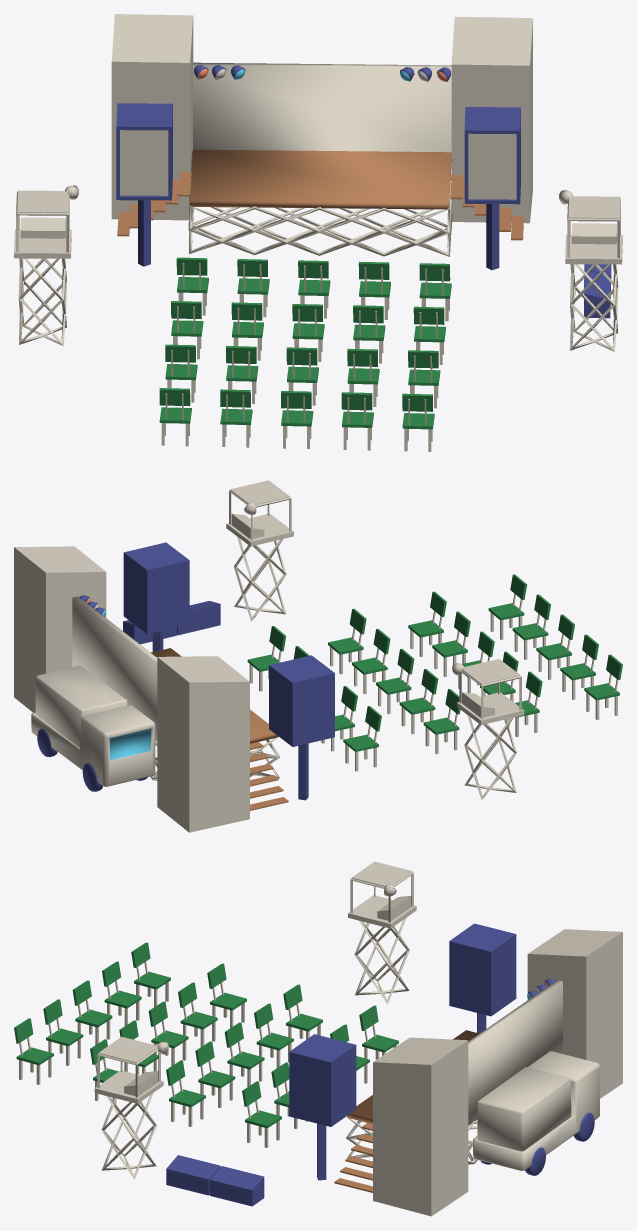
The model's file is 081_ステージ.glb.
3 renders of one model, top to bottom at view 1: azimuth 30°, elevation 25°; view 2: azimuth 150°, elevation 25°; view 3: azimuth 270°, elevation 25°, orthographic. The views are drawn at different scales.
Parts seen in each view (by area): view 1: 立方体047_2, 立方体047_6, 立方体047_1, 立方体047_3, 立方体047; view 2: 立方体047_2, 立方体047_3, 立方体047_6, 立方体047_1, 立方体047_5; view 3: 立方体047_2, 立方体047_3, 立方体047_6, 立方体047_1, 立方体047.
Boxes of the visible parts, x1=… form: 立方体047_2: x1=14, y1=14, x2=622, y2=451; 立方体047_6: x1=159, y1=257, x2=451, y2=429; 立方体047_1: x1=117, y1=149, x2=523, y2=240; 立方体047_3: x1=116, y1=65, x2=611, y2=318; 立方体047: x1=188, y1=151, x2=452, y2=256; 立方体047_2: x1=14, y1=480, x2=618, y2=832; 立方体047_3: x1=37, y1=542, x2=334, y2=800; 立方体047_6: x1=247, y1=574, x2=622, y2=751; 立方体047_1: x1=151, y1=648, x2=288, y2=810; 立方体047_5: x1=102, y1=610, x2=150, y2=760; 立方体047_2: x1=19, y1=861, x2=622, y2=1216; 立方体047_3: x1=166, y1=923, x2=594, y2=1206; 立方体047_6: x1=14, y1=942, x2=398, y2=1128; 立方体047_1: x1=334, y1=1030, x2=479, y2=1192; 立方体047: x1=346, y1=1117, x2=477, y2=1164.
Bounding box in the file's own units: 11.63 × 3.64 × 12.62.
